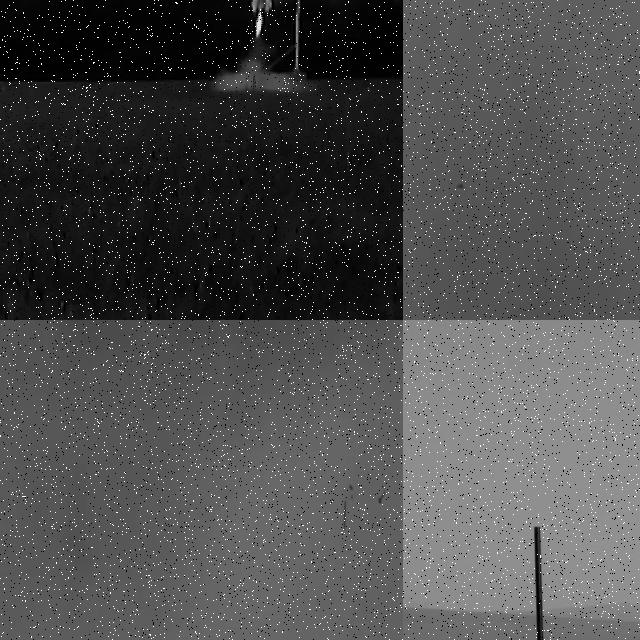Rocket: (378, 490, 386, 503), (456, 182, 464, 190)
